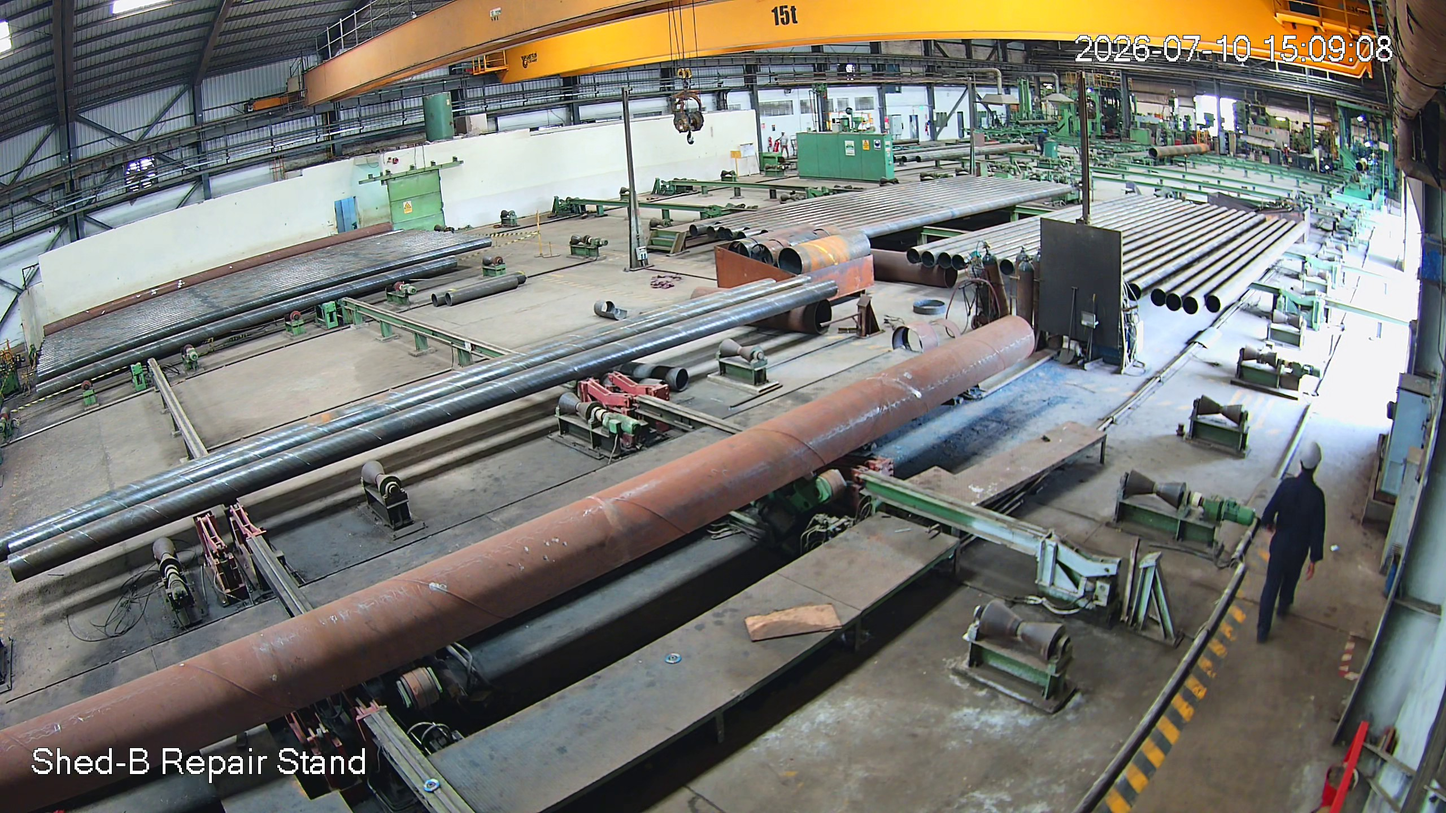Helmet: (1290, 430, 1344, 491)
Person: (1259, 437, 1333, 667)
